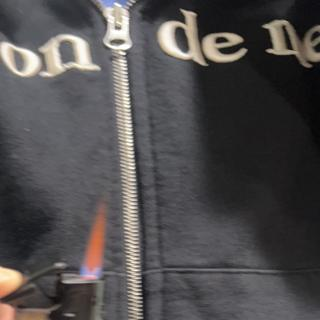fire: (84, 198, 108, 276)
